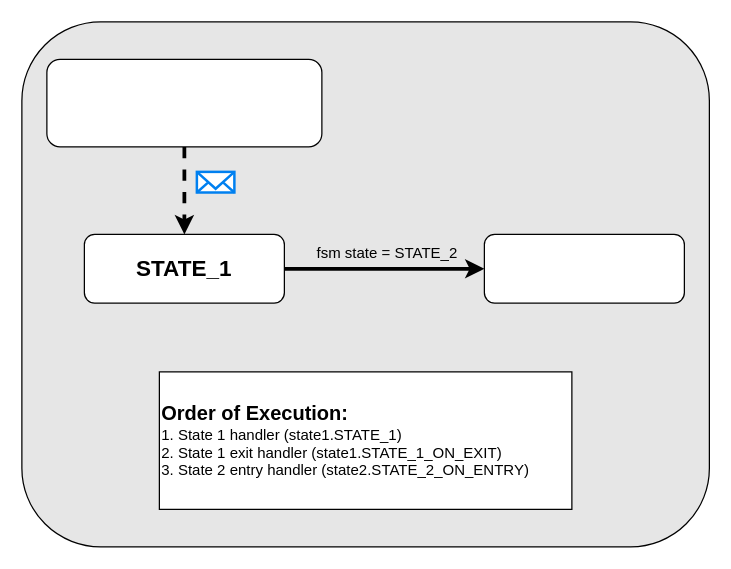
This 731x569 diagram has some shape labels left out. Each missing label, with the box of its shape:
fsm currently in STATE_1. ecu_fsm_dispatch(&fsm, &event);: (46, 58, 322, 147)
STATE_2: (483, 233, 684, 303)
